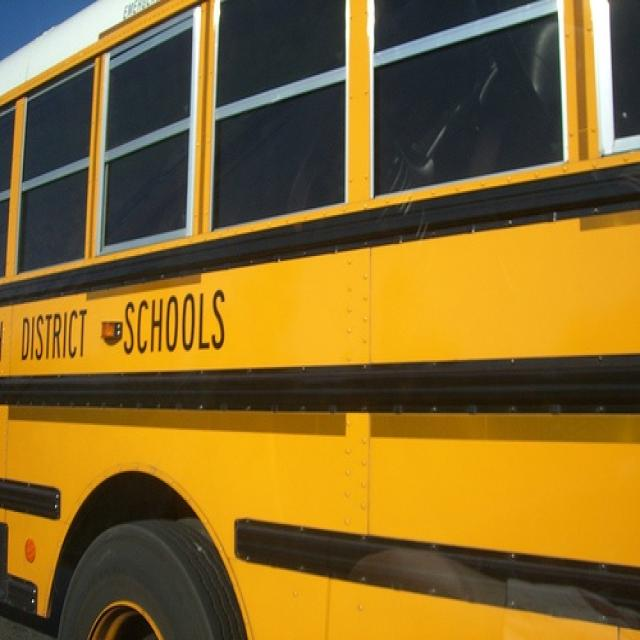bus: (4, 3, 639, 635)
